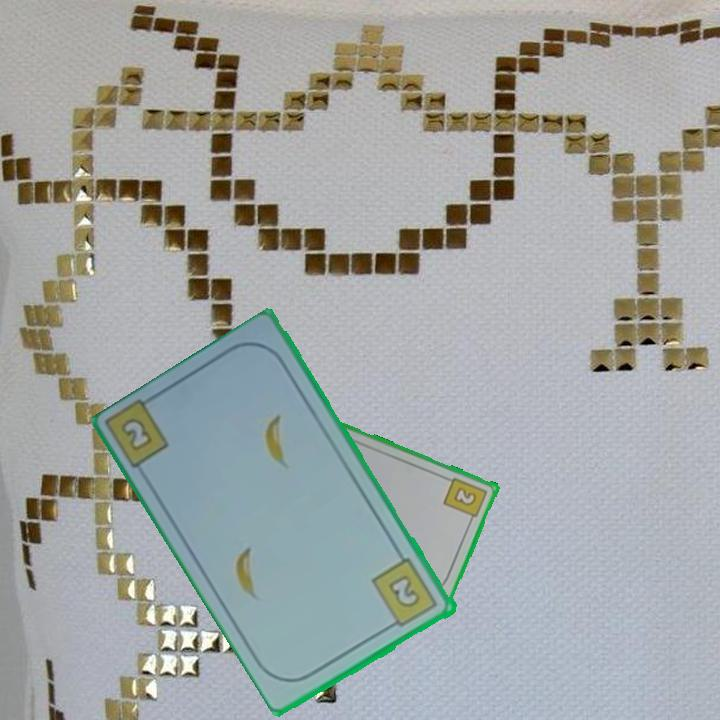2b: (369, 555, 441, 632), (441, 474, 490, 525), (117, 414, 156, 455)
